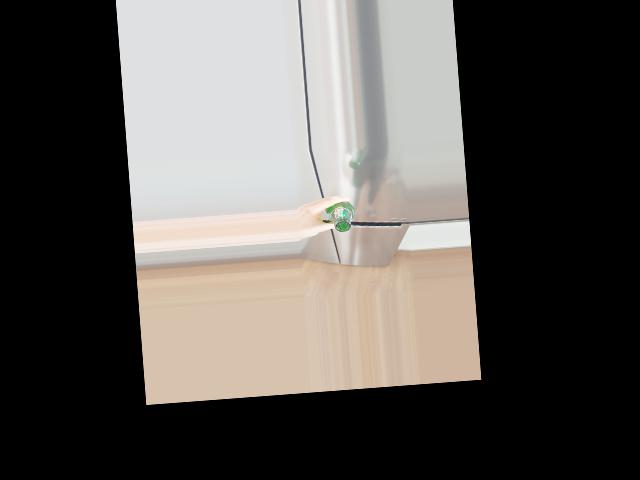beer: (325, 201, 356, 233)
